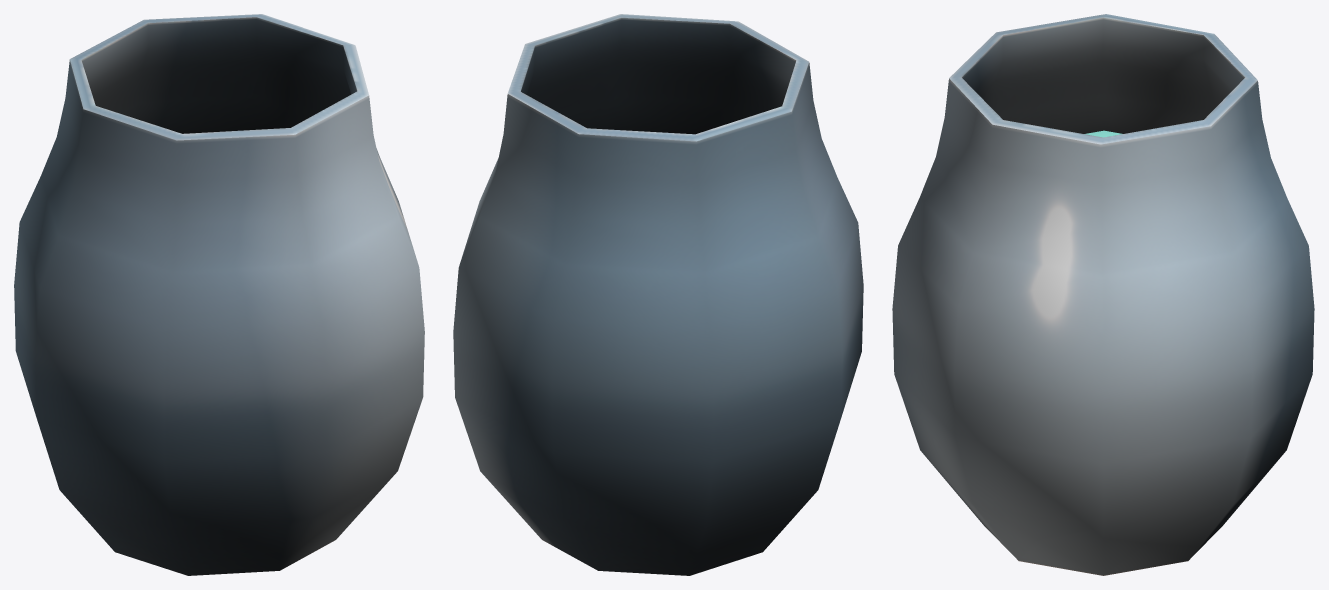
Rendered from Sumpfrosenschorle_Cocktail.glb.
The picture shows the model from 3 angles, left to right: view 1: azimuth 30°, elevation 25°; view 2: azimuth 150°, elevation 25°; view 3: azimuth 270°, elevation 25°; orthographic projection.
Visible parts, largest first — view 1: CocktailGlass.008; view 2: CocktailGlass.008; view 3: CocktailGlass.008.
Part boxes in pixels (x1,y1,x2,y2): CocktailGlass.008: (14,14,424,575); CocktailGlass.008: (453,14,863,575); CocktailGlass.008: (892,14,1314,575).
Size of the model in its own units: 0.0606 by 0.071 by 0.0606.
Materials: 2 (2 with a texture image).
